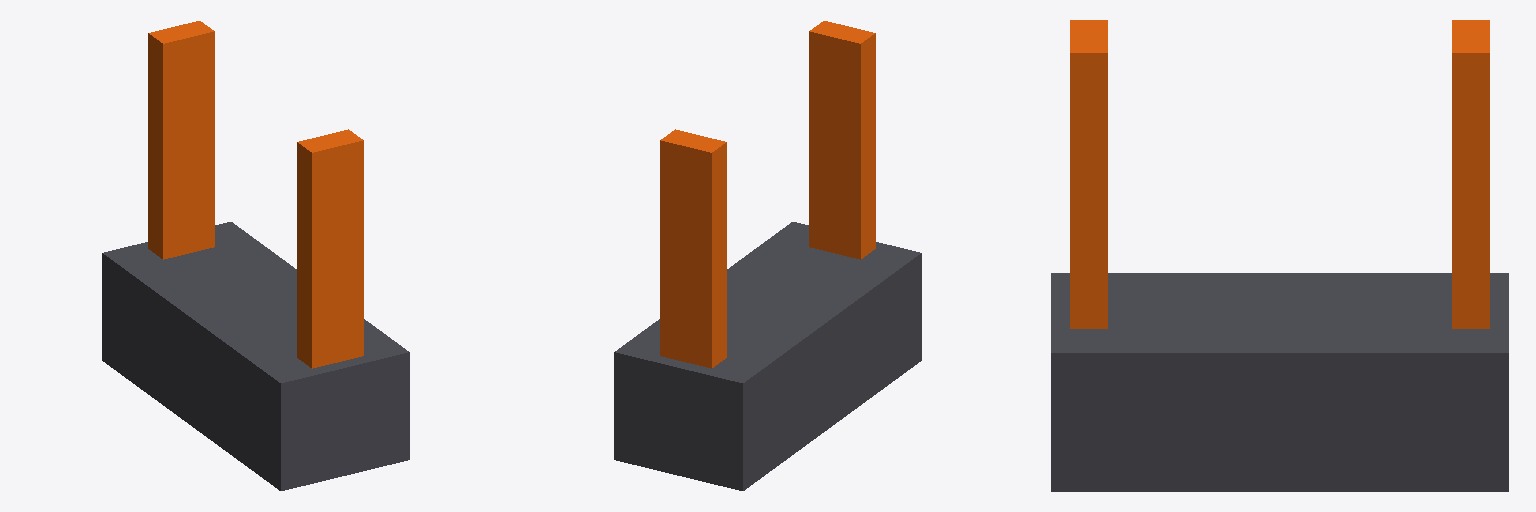
URDF robot description (parallel_gripper):
<?xml version="1.0" ?>
<!--
  Parallel-jaw two-finger gripper for the "Attach Parallel Gripper" Objective.

  Two prismatic fingers slide toward each other along the base's y axis. The
  right finger mimics the left, so the gripper has one actuated joint.
  0 m is fully open (90 mm gap), 0.04 m is fully closed (10 mm gap).

  The root link is the mounting face: AddURDF places it at tool0.
  Geometry is primitives only, so the collision shapes AttachURDF uses are
  also what the tool looks like.

  The ros2_control block is what this tool's own driver would bring up.
  See the README's "Articulated tools with AttachURDF" section for what
  MoveIt Pro does with it.
-->
<robot name="parallel_gripper">
  <material name="parallel_gripper_grey">
    <color rgba="0.35 0.35 0.38 1" />
  </material>
  <material name="parallel_gripper_orange">
    <color rgba="0.95 0.45 0.1 1" />
  </material>

  <link name="parallel_gripper_base">
    <visual>
      <origin xyz="0 0 0.02" rpy="0 0 0" />
      <geometry>
        <box size="0.05 0.12 0.04" />
      </geometry>
      <material name="parallel_gripper_grey" />
    </visual>
    <collision>
      <origin xyz="0 0 0.02" rpy="0 0 0" />
      <geometry>
        <box size="0.05 0.12 0.04" />
      </geometry>
    </collision>
  </link>

  <link name="parallel_gripper_left_finger">
    <visual>
      <origin xyz="0 0 0.04" rpy="0 0 0" />
      <geometry>
        <box size="0.02 0.01 0.08" />
      </geometry>
      <material name="parallel_gripper_orange" />
    </visual>
    <collision>
      <origin xyz="0 0 0.04" rpy="0 0 0" />
      <geometry>
        <box size="0.02 0.01 0.08" />
      </geometry>
    </collision>
  </link>

  <link name="parallel_gripper_right_finger">
    <visual>
      <origin xyz="0 0 0.04" rpy="0 0 0" />
      <geometry>
        <box size="0.02 0.01 0.08" />
      </geometry>
      <material name="parallel_gripper_orange" />
    </visual>
    <collision>
      <origin xyz="0 0 0.04" rpy="0 0 0" />
      <geometry>
        <box size="0.02 0.01 0.08" />
      </geometry>
    </collision>
  </link>

  <joint name="parallel_gripper_left_finger_joint" type="prismatic">
    <parent link="parallel_gripper_base" />
    <child link="parallel_gripper_left_finger" />
    <origin xyz="0 0.05 0.04" rpy="0 0 0" />
    <axis xyz="0 -1 0" />
    <limit lower="0.0" upper="0.04" effort="100.0" velocity="0.1" />
  </joint>

  <joint name="parallel_gripper_right_finger_joint" type="prismatic">
    <parent link="parallel_gripper_base" />
    <child link="parallel_gripper_right_finger" />
    <origin xyz="0 -0.05 0.04" rpy="0 0 0" />
    <axis xyz="0 1 0" />
    <limit lower="0.0" upper="0.04" effort="100.0" velocity="0.1" />
    <mimic joint="parallel_gripper_left_finger_joint" multiplier="1" offset="0" />
  </joint>

  <!-- ros2_control reads the <mimic> tag above, so the right finger gets state interfaces only. -->
  <ros2_control name="parallel_gripper" type="system">
    <hardware>
      <plugin>mock_components/GenericSystem</plugin>
    </hardware>
    <joint name="parallel_gripper_left_finger_joint">
      <command_interface name="position">
        <param name="min">0.0</param>
        <param name="max">0.04</param>
      </command_interface>
      <state_interface name="position">
        <param name="initial_value">0.0</param>
      </state_interface>
      <state_interface name="velocity" />
    </joint>
    <joint name="parallel_gripper_right_finger_joint">
      <state_interface name="position" />
      <state_interface name="velocity" />
    </joint>
  </ros2_control>
</robot>

--- Render facts (derived) ---
Views: 3 orthographic renders of the robot side by side, from view 1: azimuth 30°, elevation 25°; view 2: azimuth 150°, elevation 25°; view 3: azimuth 270°, elevation 25°.
Model parallel_gripper with 3 links and 2 joints (2 prismatic), rooted at parallel_gripper_base, posed every joint at zero.
Links seen in each view (by area): view 1: parallel_gripper_base, parallel_gripper_right_finger, parallel_gripper_left_finger; view 2: parallel_gripper_base, parallel_gripper_left_finger, parallel_gripper_right_finger; view 3: parallel_gripper_base, parallel_gripper_left_finger, parallel_gripper_right_finger.
Boxes of the visible links, left/top/right/bottom form: parallel_gripper_base: left=102, top=222, right=409, bottom=490; parallel_gripper_right_finger: left=297, top=129, right=363, bottom=368; parallel_gripper_left_finger: left=148, top=21, right=214, bottom=259; parallel_gripper_base: left=614, top=222, right=921, bottom=490; parallel_gripper_left_finger: left=660, top=129, right=726, bottom=368; parallel_gripper_right_finger: left=809, top=21, right=875, bottom=259; parallel_gripper_base: left=1051, top=273, right=1508, bottom=491; parallel_gripper_left_finger: left=1452, top=20, right=1489, bottom=328; parallel_gripper_right_finger: left=1070, top=20, right=1107, bottom=328.
Bounding box of the posed robot: 0.05 × 0.12 × 0.12 m (x, y, z).
Geometry: primitives only (box / cylinder / sphere), no mesh files.
